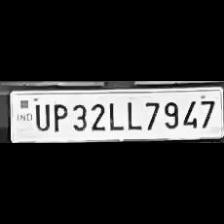2: (87, 100, 107, 132)
3: (69, 100, 87, 132)
4: (178, 96, 198, 130)
7: (140, 97, 160, 130), (197, 97, 215, 129)
9: (160, 98, 178, 130)
L: (122, 97, 140, 130), (106, 99, 124, 131)
P: (48, 101, 68, 133)
U: (31, 100, 49, 132)
